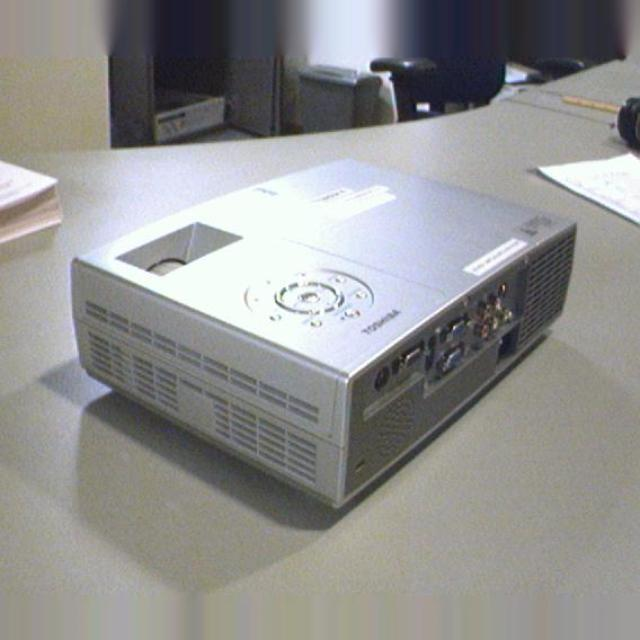Projector: (66, 157, 578, 511)
